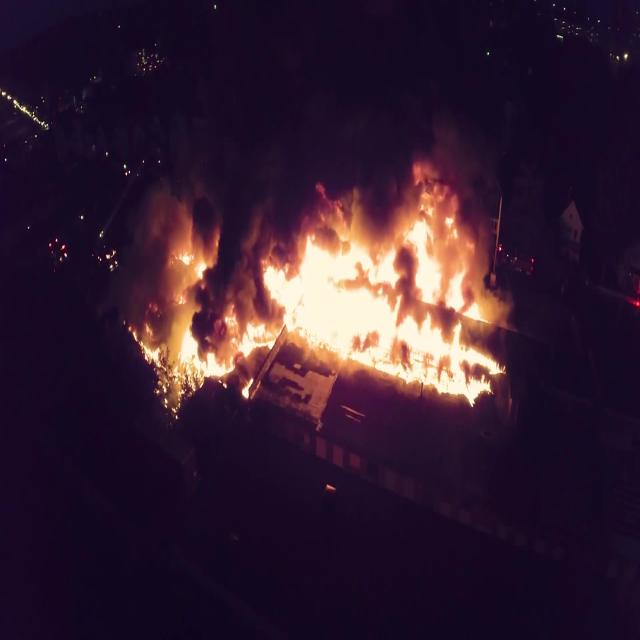Fire: (267, 195, 500, 410), (126, 225, 260, 401)
Smoke: (202, 20, 495, 231), (195, 188, 276, 330)
